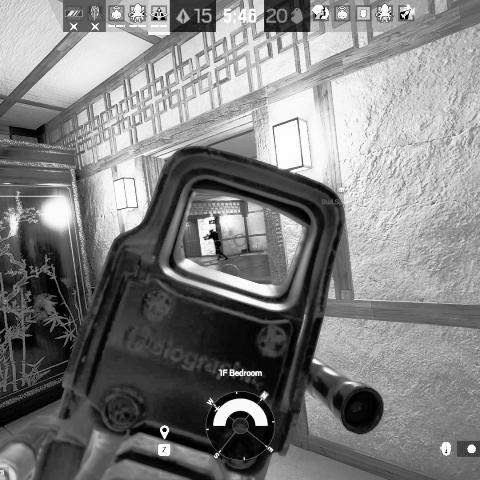Character: (202, 228, 228, 261)
Friend_label: (323, 183, 359, 207), (203, 213, 221, 228)
Head: (208, 229, 214, 234)
